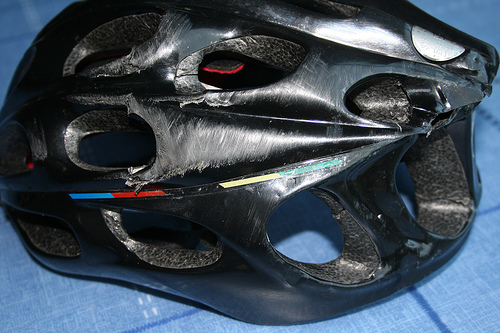helmet: (9, 1, 489, 295)
